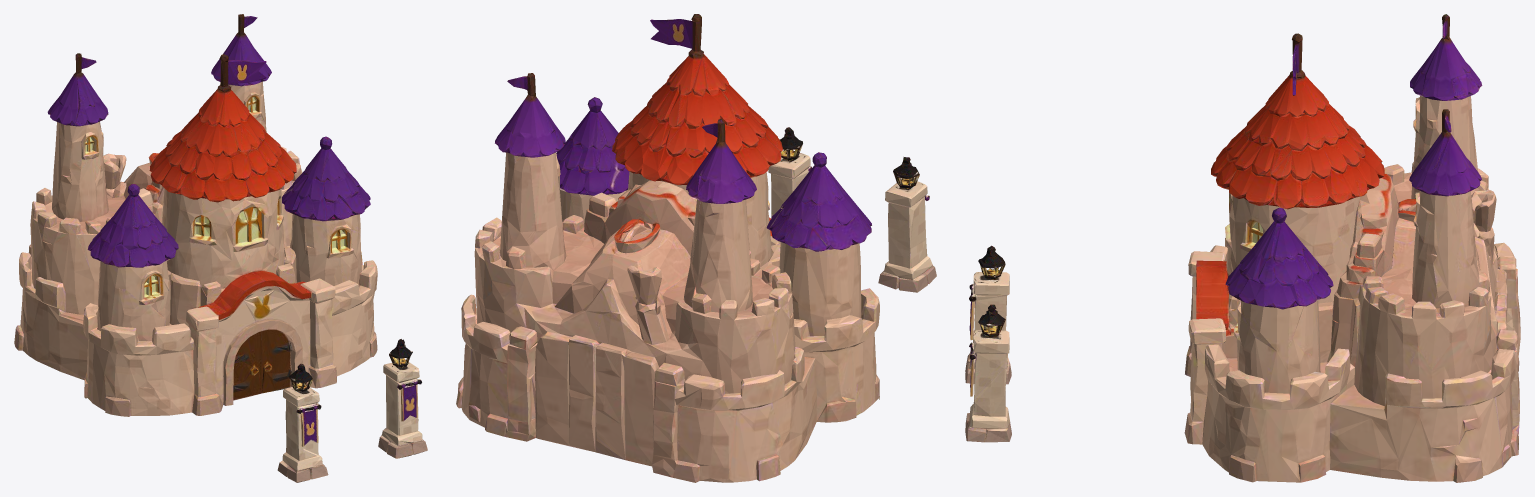
The model's file is castle.glb.
The picture shows the model from 3 angles, left to right: view 1: azimuth 30°, elevation 25°; view 2: azimuth 150°, elevation 25°; view 3: azimuth 270°, elevation 25°; orthographic projection. The views are drawn at different scales.
Size of the model in its own units: 25.9 by 28 by 38.
Materials: 1 (1 with a texture image).
